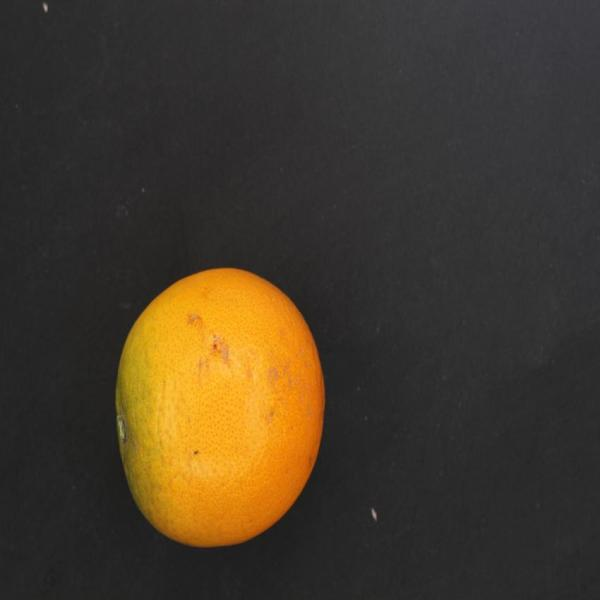Sana: (106, 258, 332, 553)
